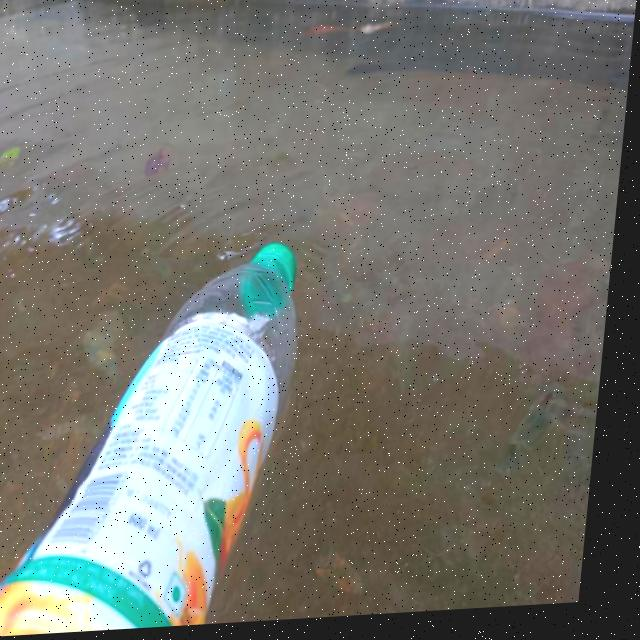leaf: (283, 0, 409, 56), (131, 136, 185, 190), (0, 142, 39, 185)
waterbottle: (0, 216, 377, 639)
